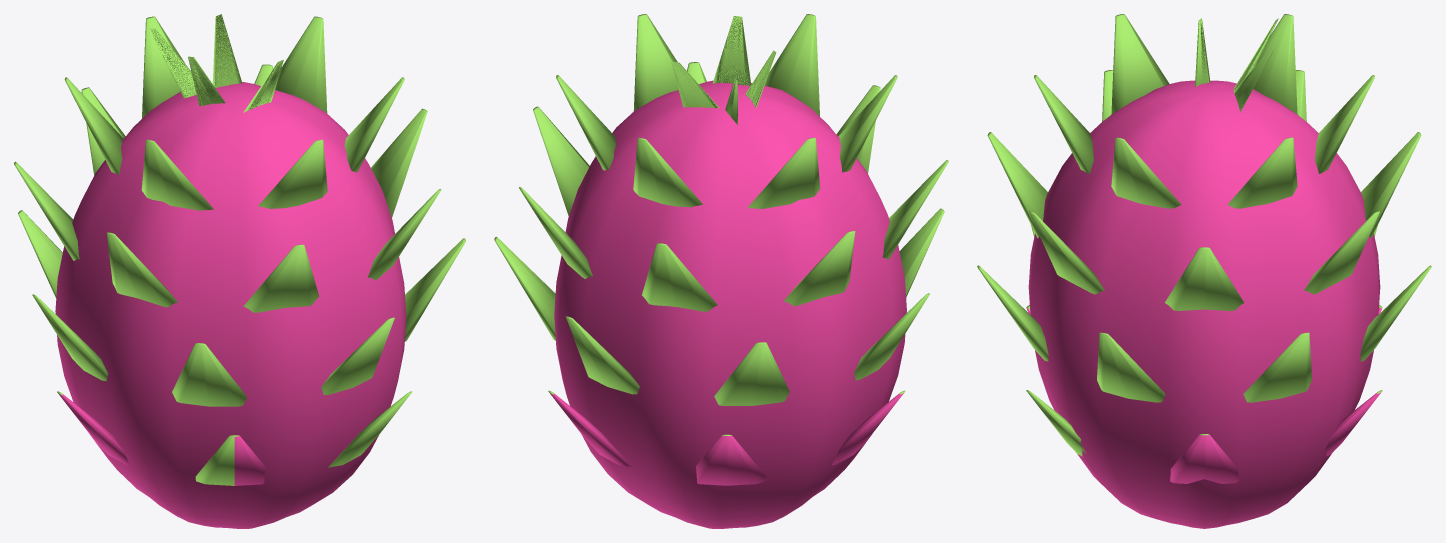
File: Dragonfruit_Whole.fbx
The picture shows the model from 3 angles, left to right: view 1: azimuth 30°, elevation 25°; view 2: azimuth 150°, elevation 25°; view 3: azimuth 270°, elevation 25°; orthographic projection.
Visible parts, largest first — view 1: Dragonfruit_Whole; view 2: Dragonfruit_Whole; view 3: Dragonfruit_Whole.
Boxes of the visible parts, bbox=[...] form: Dragonfruit_Whole: bbox=[14, 14, 465, 528]; Dragonfruit_Whole: bbox=[494, 14, 948, 528]; Dragonfruit_Whole: bbox=[977, 14, 1431, 528].
Size of the model in its own units: 1.18 by 1.35 by 1.18.
